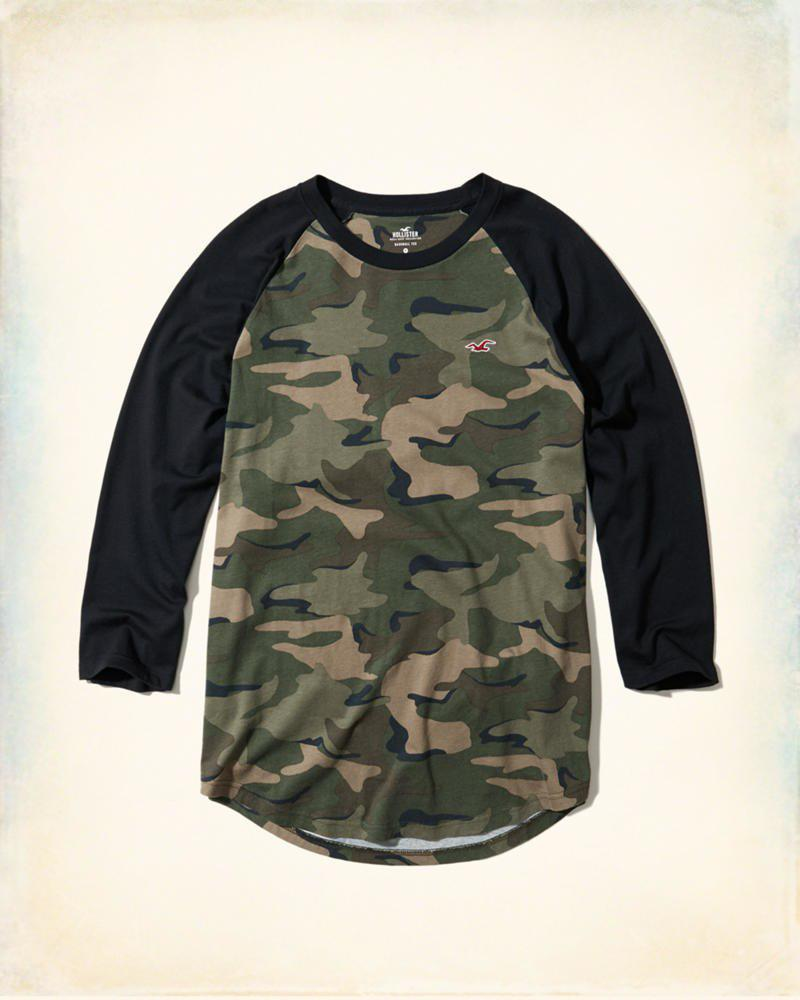teeshirt: (59, 171, 742, 862)
